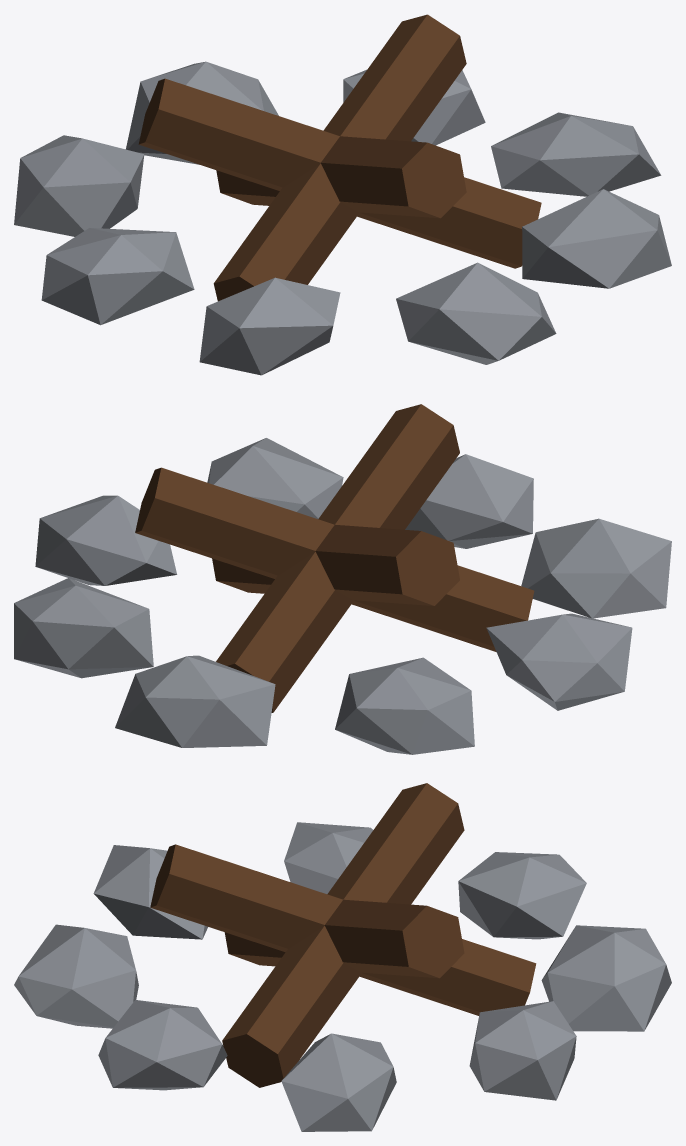
File: feu.glb
The picture shows the model from 3 angles, top to bottom: view 1: azimuth 30°, elevation 25°; view 2: azimuth 150°, elevation 25°; view 3: azimuth 270°, elevation 25°; orthographic projection. The views are drawn at different scales.
Parts seen in each view (by area): view 1: Cylinder.001, Cylinder.002, Icosphere.007, Icosphere.004, Icosphere.006, Cylinder, Icosphere.003, Icosphere, Icosphere.005, Icosphere.002, Icosphere.001; view 2: Cylinder, Cylinder.001, Icosphere.005, Icosphere.002, Icosphere.001, Icosphere.003, Cylinder.002, Icosphere.004, Icosphere, Icosphere.006, Icosphere.007; view 3: Cylinder.002, Cylinder, Icosphere.002, Cylinder.001, Icosphere.006, Icosphere.003, Icosphere.007, Icosphere, Icosphere.001, Icosphere.005, Icosphere.004.
Boxes of the visible parts, box(x1,y1,x2,y2) form: Cylinder.001: box(213, 14, 466, 301); Cylinder.002: box(138, 78, 541, 268); Icosphere.007: box(522, 189, 671, 288); Icosphere.004: box(41, 228, 194, 325); Icosphere.006: box(396, 262, 556, 364); Cylinder: box(216, 136, 466, 218); Icosphere.003: box(14, 135, 144, 236); Icosphere: box(491, 112, 661, 196); Icosphere.005: box(199, 277, 340, 375); Icosphere.002: box(125, 61, 278, 164); Icosphere.001: box(343, 69, 485, 145); Cylinder: box(216, 404, 459, 712); Cylinder.001: box(135, 467, 534, 651); Icosphere.005: box(521, 518, 671, 618); Icosphere.002: box(115, 655, 275, 747); Icosphere.001: box(14, 578, 153, 678); Icosphere.003: box(335, 657, 474, 754); Cylinder.002: box(212, 524, 459, 605); Icosphere.004: box(486, 613, 632, 710); Icosphere: box(35, 495, 177, 585); Icosphere.006: box(405, 454, 533, 548); Icosphere.007: box(207, 438, 343, 518); Cylinder.002: box(222, 783, 464, 1087); Cylinder: box(150, 844, 536, 1015); Icosphere.002: box(541, 925, 671, 1031); Cylinder.001: box(224, 899, 464, 978); Icosphere.006: box(14, 924, 138, 1028); Icosphere.003: box(458, 852, 586, 939); Icosphere.007: box(98, 1000, 227, 1090); Icosphere: box(281, 1033, 396, 1131); Icosphere.001: box(469, 1001, 576, 1100); Icosphere.005: box(93, 845, 207, 939); Icosphere.004: box(284, 822, 373, 893).
Bounding box in the file's own units: 1.06 × 0.3248 × 1.06.
